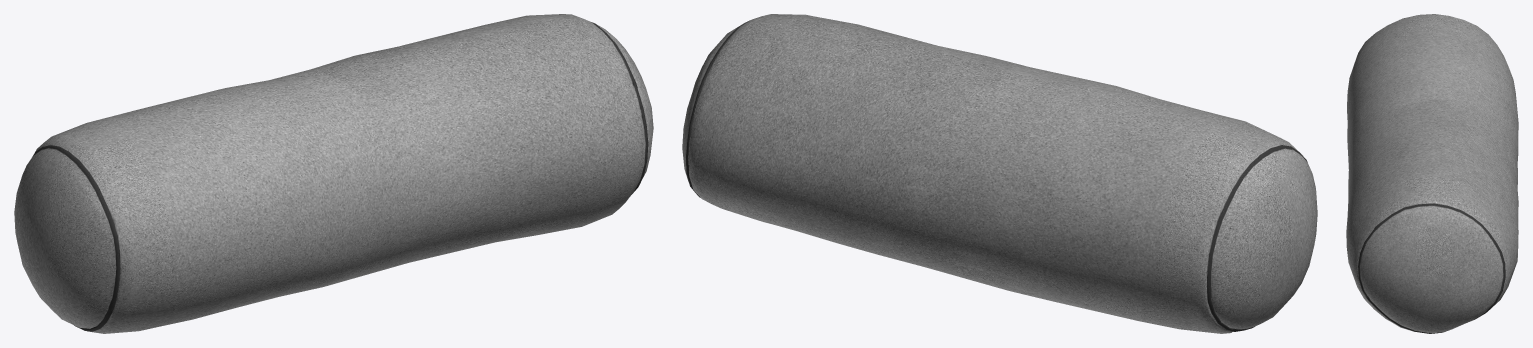
The model's file is Blaskata50569513.glb.
3 renders of one model, left to right at view 1: azimuth 30°, elevation 25°; view 2: azimuth 150°, elevation 25°; view 3: azimuth 270°, elevation 25°, orthographic. The views are drawn at different scales.
Parts seen in each view (by area): view 1: ASY_ART_50569513_S01_NV01; view 2: ASY_ART_50569513_S01_NV01; view 3: ASY_ART_50569513_S01_NV01.
Boxes of the visible parts, x1,y1,x2,y2 form: ASY_ART_50569513_S01_NV01: [14, 14, 653, 333]; ASY_ART_50569513_S01_NV01: [682, 14, 1317, 333]; ASY_ART_50569513_S01_NV01: [1346, 14, 1518, 333].
Bounding box in the file's own units: 0.8085 × 0.2523 × 0.2744.
Materials: 1 (1 with a texture image).
